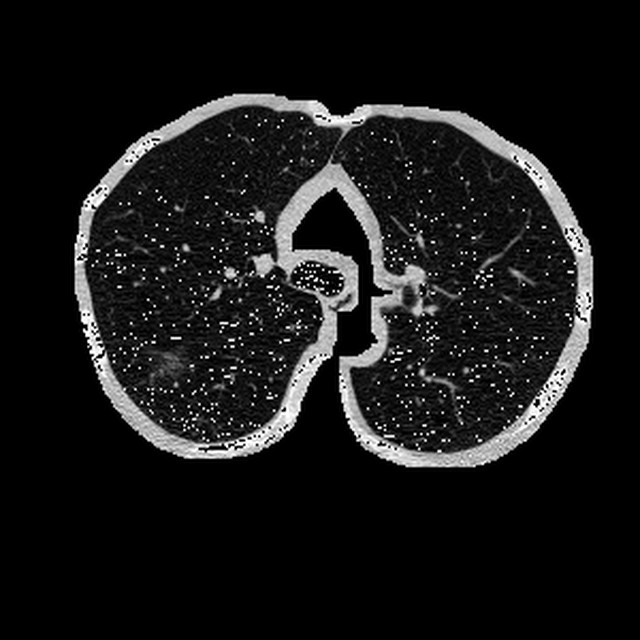PN: (158, 350, 183, 375)
